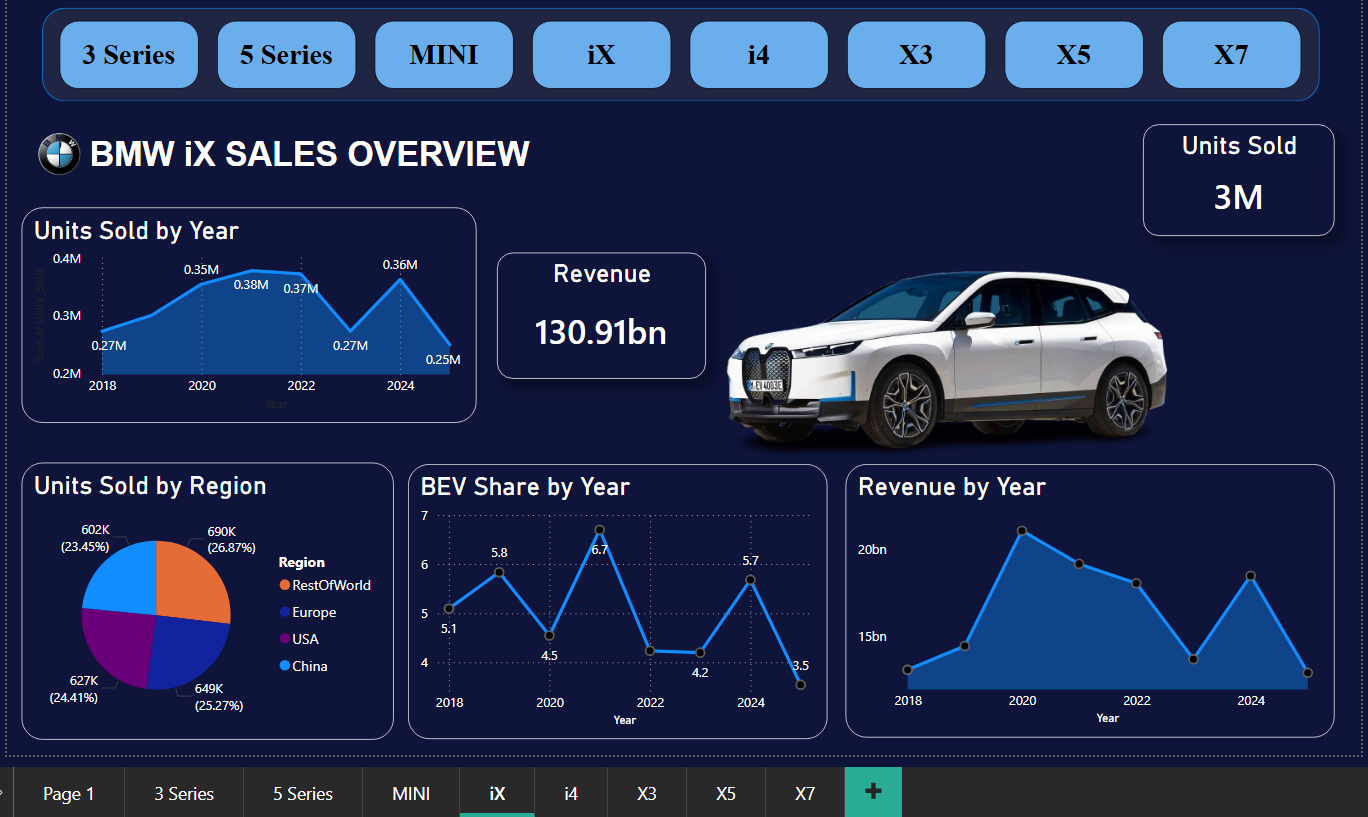

The page's visual inventory and layout, read from the dashboard file:
{"tool":"powerbi","page":{"name":"iX","canvas":[1280,720],"ordinal":4},"visuals":[{"type":"shape","box":[33.7,13.8,1207.6,88.8],"z":0},{"type":"actionButton","box":[49,26,131.6,64.3],"z":1000},{"type":"actionButton","box":[197.9,26,131.6,64.3],"z":2000},{"type":"actionButton","box":[346.7,26,131.6,64.3],"z":3000},{"type":"actionButton","box":[495.6,26,131.6,64.3],"z":4000},{"type":"actionButton","box":[644.5,26,131.6,64.3],"z":5000},{"type":"actionButton","box":[793.4,26,131.6,64.3],"z":6000},{"type":"actionButton","box":[942.3,26,131.6,64.3],"z":7000},{"type":"actionButton","box":[1091.2,26,131.6,64.3],"z":8000},{"type":"lineChart","title":"Units Sold by Year","fields":{"Y":["Sum(Sheet1.Units_Sold)"],"Category":["Sheet1.Year"]},"box":[13.8,202,430.1,203.6],"z":9000},{"type":"pieChart","title":"Units Sold by Region","fields":{"Category":["Sheet1.Region"],"Y":["Sum(Sheet1.Units_Sold)"]},"box":[13.8,443.8,352,261.7],"z":10000},{"type":"lineChart","title":"BEV Share by Year","fields":{"Y":["Avg(Sheet1.BEV_Share_%)"],"Category":["Sheet1.Year"]},"box":[379.6,445.4,396.4,260.2],"z":11000},{"type":"cardVisual","title":"Units Sold","fields":{"Data":["Sum(Sheet1.Units_Sold)"]},"box":[1073.9,124.6,181.2,105.8],"z":12000},{"type":"areaChart","title":"Revenue by Year","fields":{"Category":["Sheet1.Year"],"Y":["Sum(Sheet1.Revenue)"]},"box":[792.8,445.4,462.2,258.7],"z":14000},{"type":"image","box":[24.5,131.6,49,39.8],"z":15000},{"type":"cardVisual","title":"Revenue","fields":{"Data":["Sum(Sheet1.Revenue)"]},"box":[463.7,244.9,197.4,119.4],"z":16000},{"type":"textbox","box":[73.2,129.2,554.3,48.3],"z":17000},{"type":"image","box":[495.1,124.6,784.7,347.2],"z":17500}]}

Visuals, with their boxes on the page's 1280x720 design canvas (x1, y1, x2, y2). These are canvas units, not pixel positions in the 1368x817 screenshot, which may show the page scaled, cropped or inside an application window:
shape: Rect(34, 14, 1241, 103)
actionButton: Rect(49, 26, 181, 90)
actionButton: Rect(198, 26, 330, 90)
actionButton: Rect(347, 26, 478, 90)
actionButton: Rect(496, 26, 627, 90)
actionButton: Rect(644, 26, 776, 90)
actionButton: Rect(793, 26, 925, 90)
actionButton: Rect(942, 26, 1074, 90)
actionButton: Rect(1091, 26, 1223, 90)
"Units Sold by Year" lineChart: Rect(14, 202, 444, 406)
"Units Sold by Region" pieChart: Rect(14, 444, 366, 706)
"BEV Share by Year" lineChart: Rect(380, 445, 776, 706)
"Units Sold" cardVisual: Rect(1074, 125, 1255, 230)
"Revenue by Year" areaChart: Rect(793, 445, 1255, 704)
image: Rect(24, 132, 74, 171)
"Revenue" cardVisual: Rect(464, 245, 661, 364)
textbox: Rect(73, 129, 628, 178)
image: Rect(495, 125, 1280, 472)
